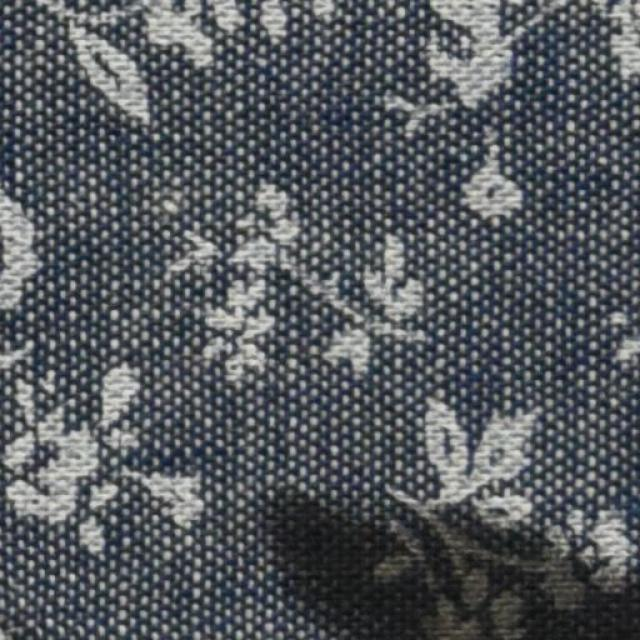Stain: (253, 482, 639, 639)
